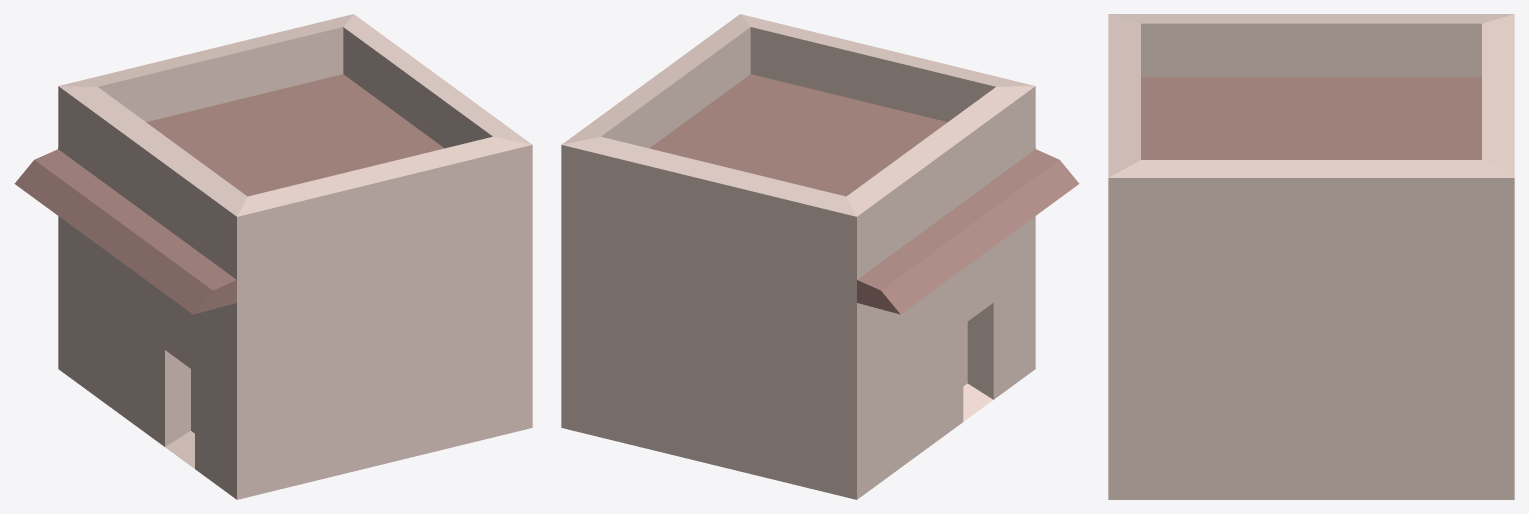
File: CasaChica002.FBX
The picture shows the model from 3 angles, left to right: view 1: azimuth 30°, elevation 25°; view 2: azimuth 150°, elevation 25°; view 3: azimuth 270°, elevation 25°; orthographic projection. The views are drawn at different scales.
Visible parts, largest first — view 1: CasaChica002; view 2: CasaChica002; view 3: CasaChica002.
Part boxes in pixels (box(x1,y1,x2,y2)): CasaChica002: box(14, 14, 532, 499); CasaChica002: box(561, 14, 1079, 499); CasaChica002: box(1108, 14, 1514, 499).
Bounding box in the file's own units: 499 × 403 × 455.
